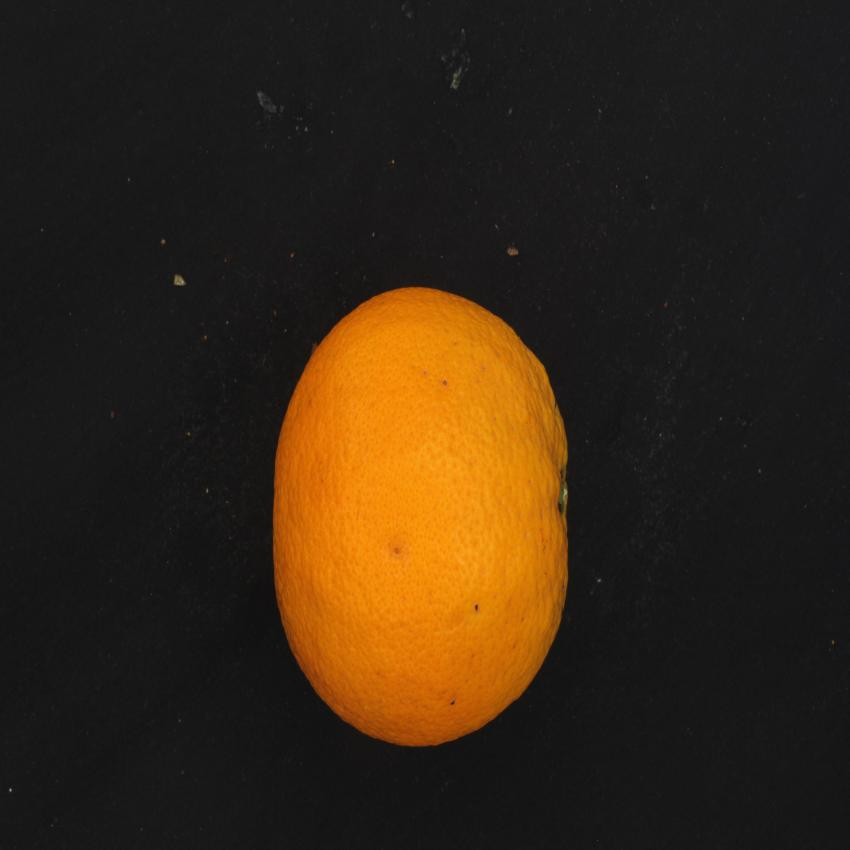Buen estado: (264, 271, 578, 760)
